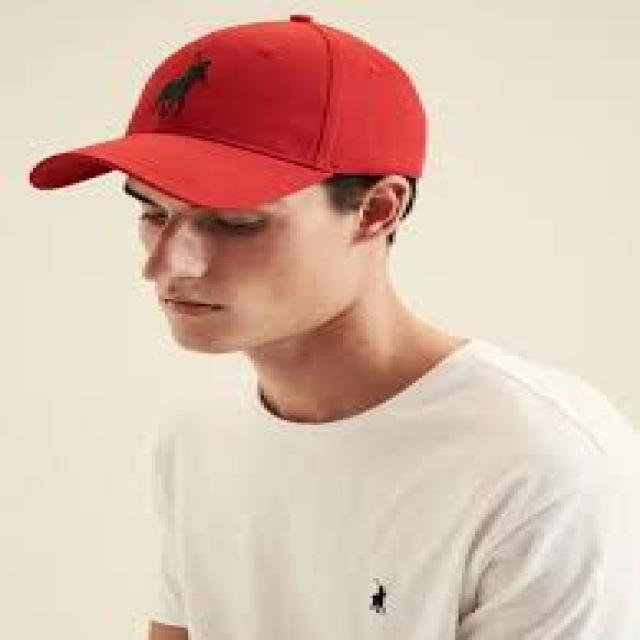cap: (22, 0, 478, 249)
